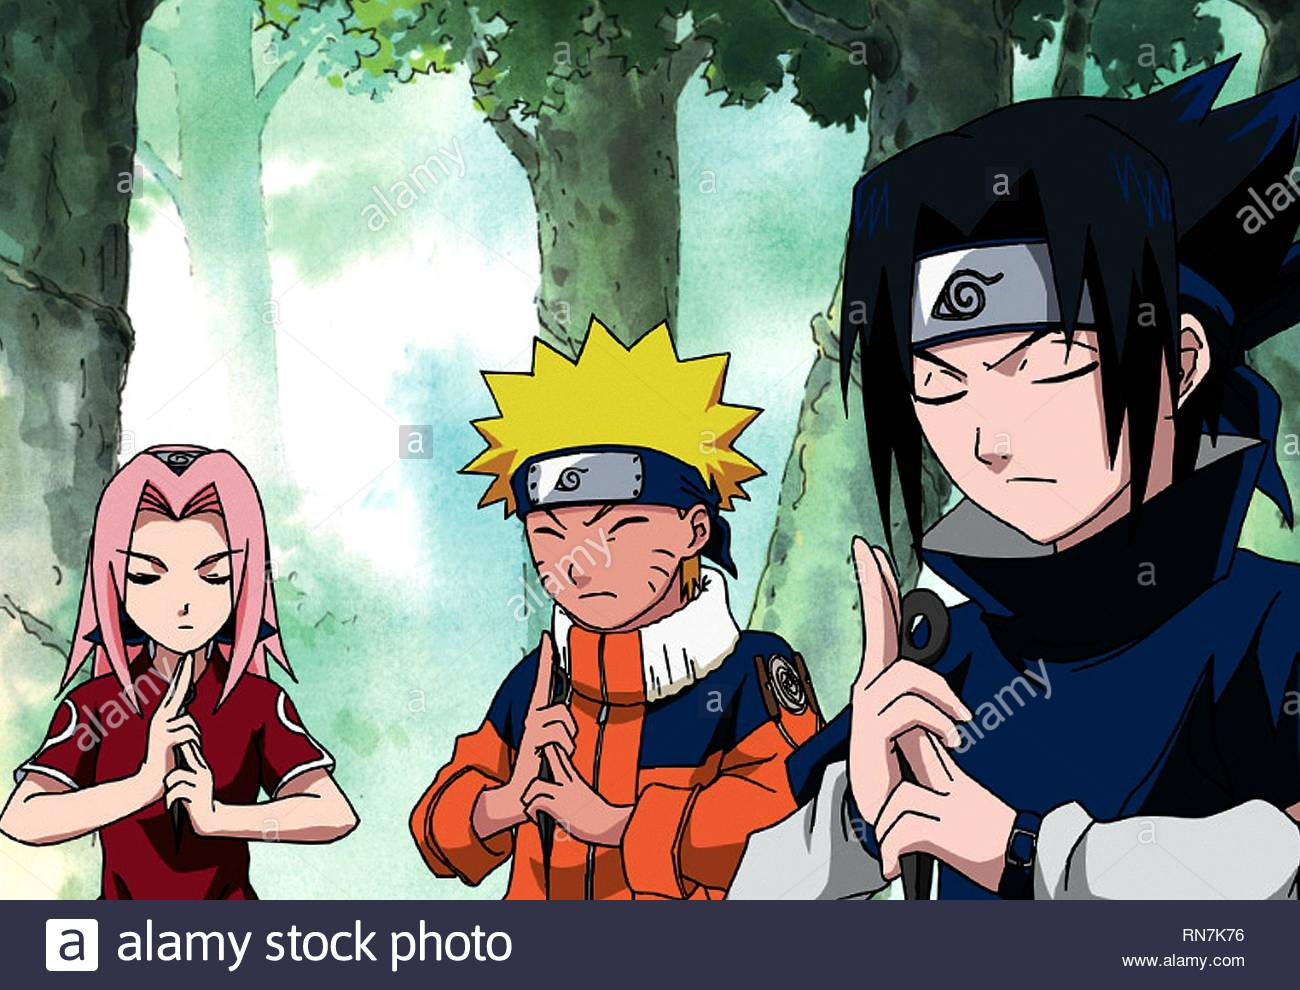naruto: (504, 438, 726, 634)
sakura: (72, 438, 280, 663)
sasuke: (889, 229, 1214, 554)
